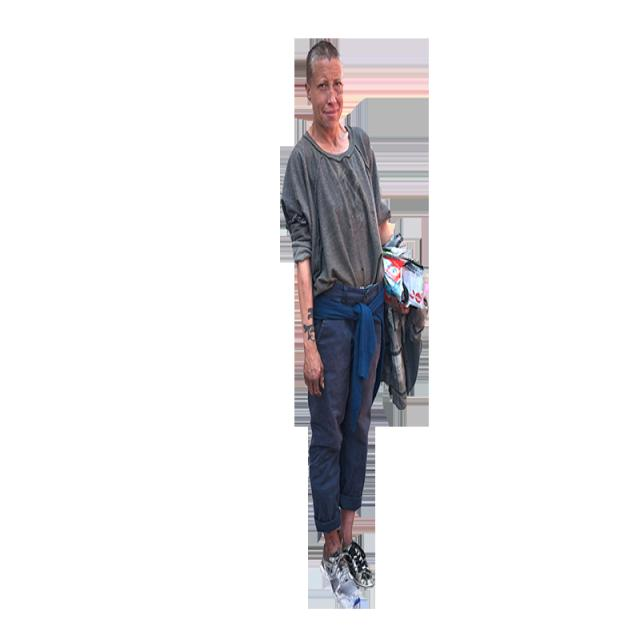jovem: (277, 35, 393, 618)
